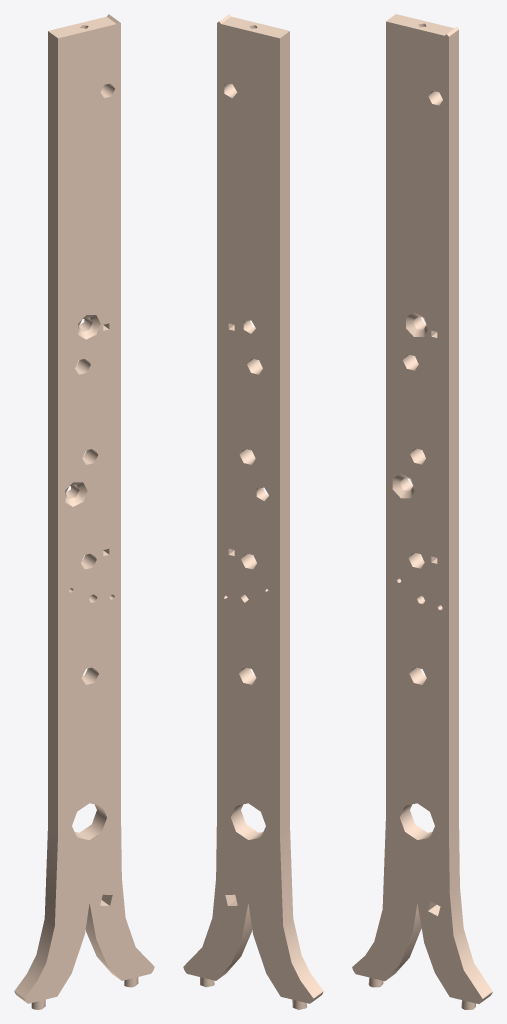
Rendered from Pilier Heures_avant.obj.
The picture shows the model from 3 angles, left to right: view 1: azimuth 30°, elevation 25°; view 2: azimuth 150°, elevation 25°; view 3: azimuth 330°, elevation 25°; orthographic projection.
Visible parts, largest first — view 1: Face_13, Face_4, Face_5, Face_1, Face_28, Face_8; view 2: Face_14, Face_4, Face_5, Face_1, Face_28, Face_8; view 3: Face_13, Face_11, Face_10, Face_1, Face_28, Face_7.
Boxes of the visible parts, x1=… form: Face_13: x1=24, y1=21, x2=154, y2=1003; Face_4: x1=48, y1=31, x2=57, y2=834; Face_5: x1=14, y1=828, x2=57, y2=998; Face_1: x1=48, y1=16, x2=115, y2=38; Face_28: x1=74, y1=804, x2=106, y2=839; Face_8: x1=85, y1=904, x2=120, y2=979; Face_14: x1=183, y1=21, x2=313, y2=1003; Face_4: x1=280, y1=31, x2=289, y2=835; Face_5: x1=280, y1=828, x2=323, y2=998; Face_1: x1=222, y1=16, x2=289, y2=38; Face_28: x1=231, y1=804, x2=263, y2=839; Face_8: x1=217, y1=904, x2=252, y2=979; Face_13: x1=352, y1=21, x2=482, y2=1003; Face_11: x1=449, y1=30, x2=458, y2=835; Face_10: x1=449, y1=828, x2=492, y2=998; Face_1: x1=386, y1=14, x2=454, y2=35; Face_28: x1=400, y1=804, x2=432, y2=839; Face_7: x1=386, y1=904, x2=421, y2=980.
Bounding box in the file's own units: 0.0445 × 0.3166 × 0.006.
